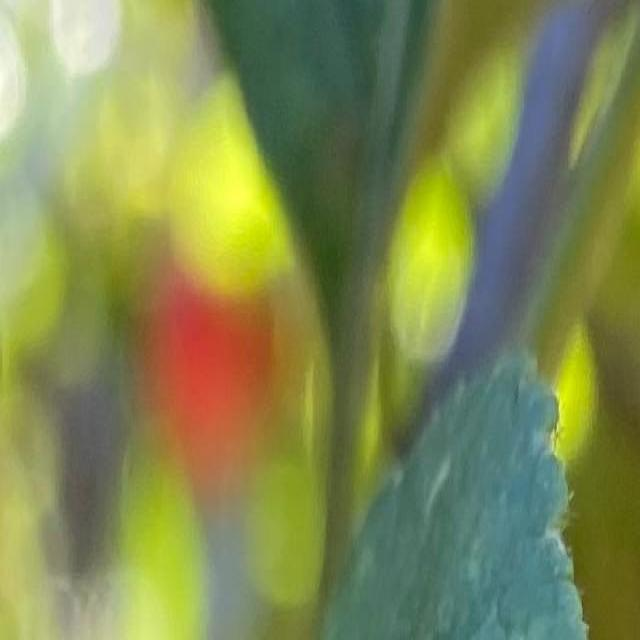Rotten Apple: (154, 244, 278, 461)
